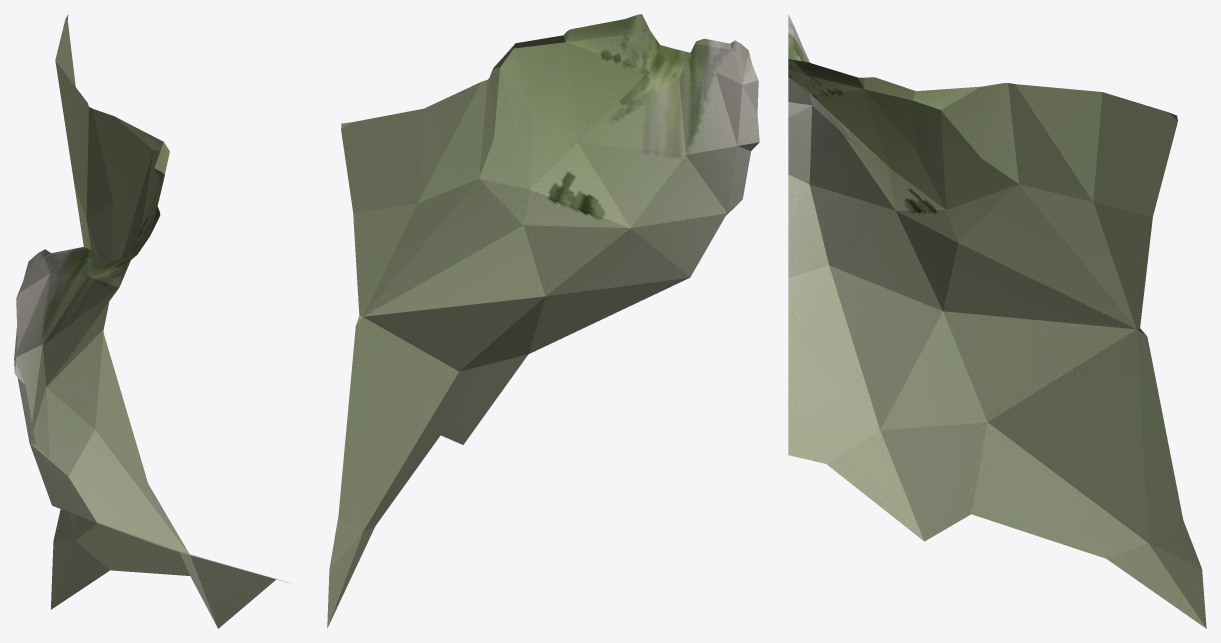
The picture shows the model from 3 angles, left to right: view 1: azimuth 30°, elevation 25°; view 2: azimuth 150°, elevation 25°; view 3: azimuth 270°, elevation 25°; orthographic projection. The views are drawn at different scales.
Bounding box in the file's own units: 1.21 × 2.49 × 1.84.
2 materials, 2 textured.
